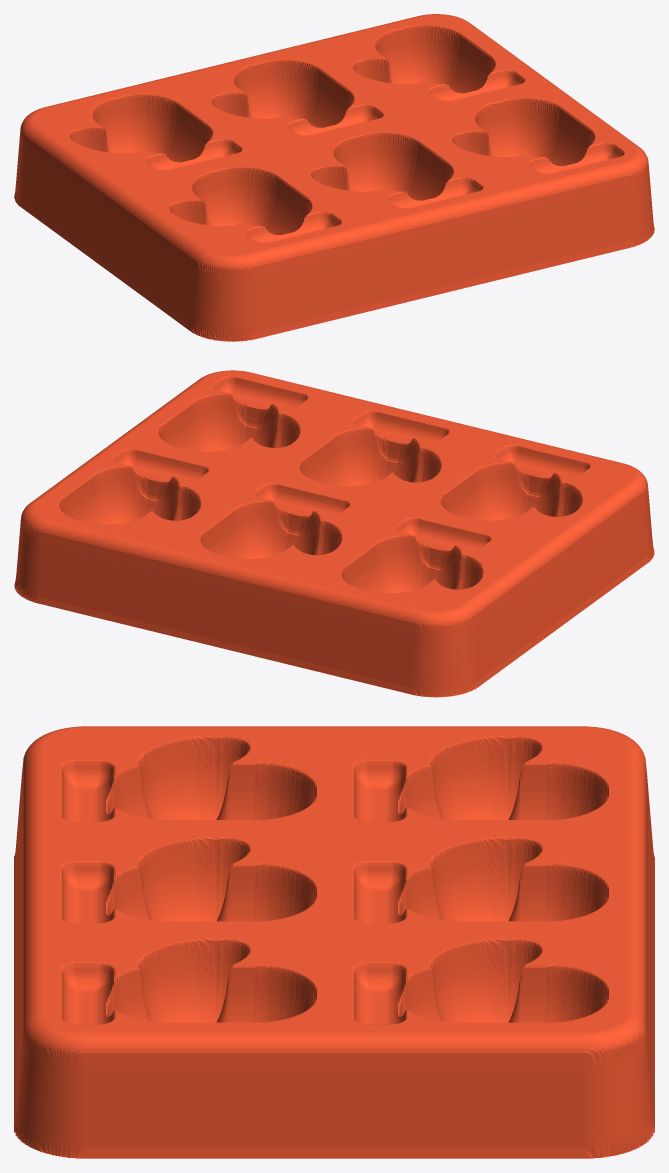
File: mold.glb
3 renders of one model, top to bottom at view 1: azimuth 30°, elevation 25°; view 2: azimuth 150°, elevation 25°; view 3: azimuth 270°, elevation 25°, orthographic. The views are drawn at different scales.
Parts seen in each view (by area): view 1: geometry_0; view 2: geometry_0; view 3: geometry_0.
Part boxes in pixels (x1,y1,x2,y2): geometry_0: [14, 14, 654, 341]; geometry_0: [14, 370, 654, 697]; geometry_0: [14, 726, 654, 1158].
Bounding box in the file's own units: 0.0978 × 0.0159 × 0.0808.
